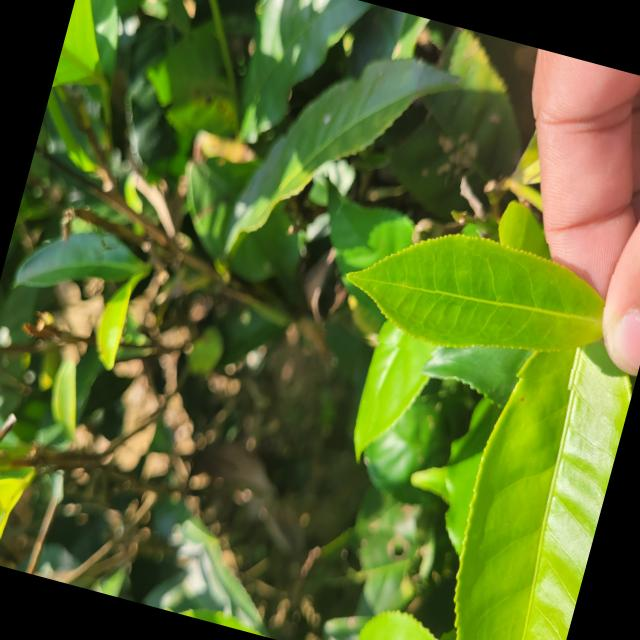Catagory A(1-2 days): (323, 192, 632, 400)
